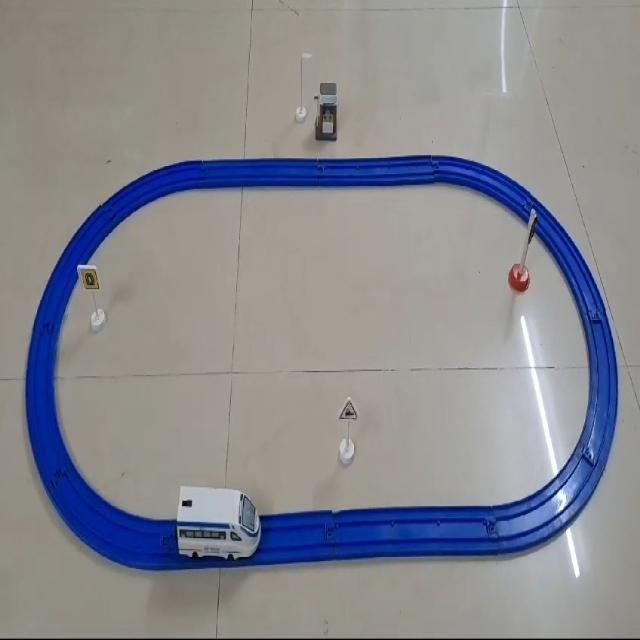bus: (175, 483, 261, 560)
